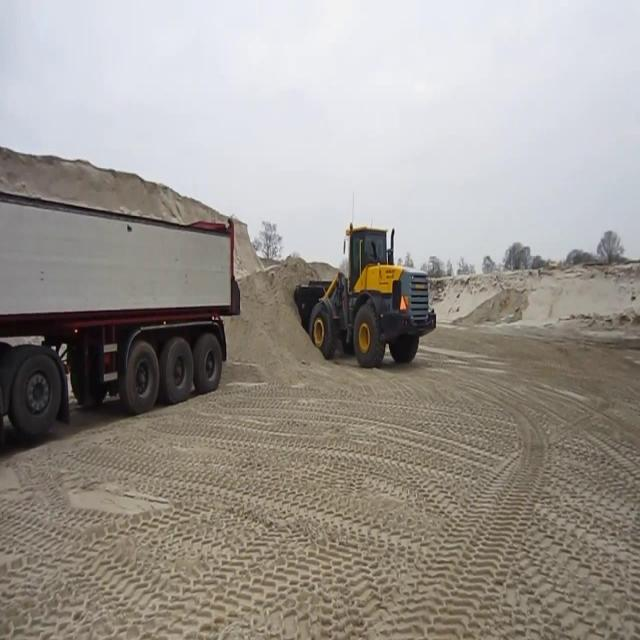Dump Truck: (0, 185, 242, 442)
Loader: (293, 190, 436, 369)
